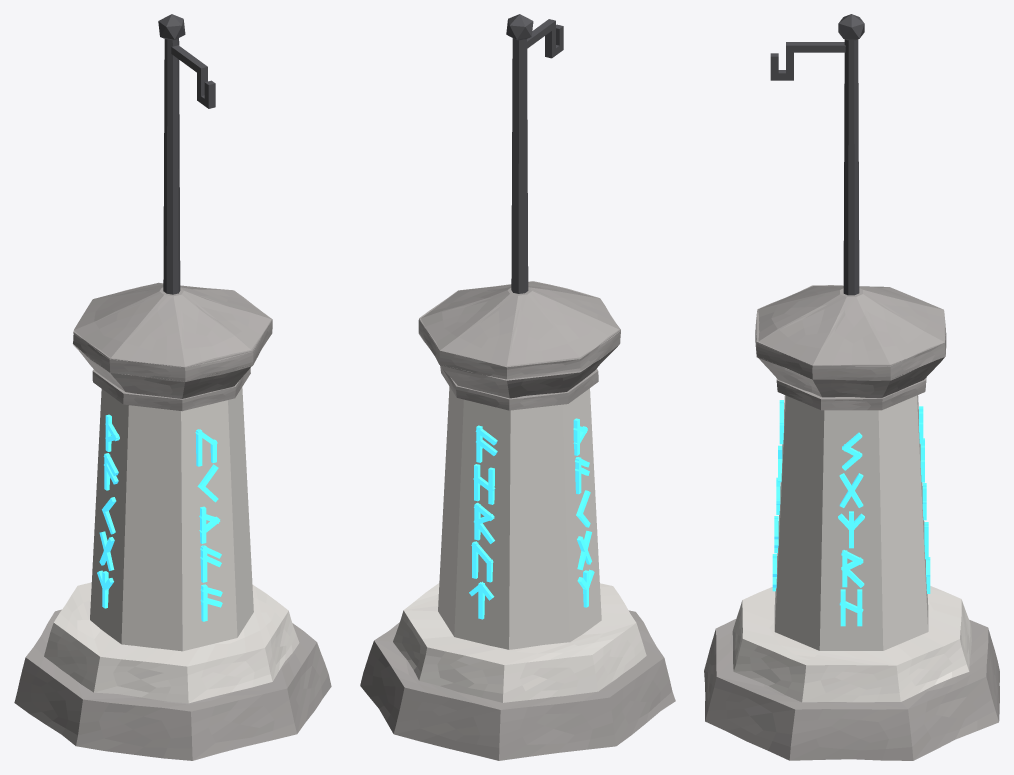
File: xai_bossholder_pillar.fbx
3 renders of one model, left to right at view 1: azimuth 30°, elevation 25°; view 2: azimuth 150°, elevation 25°; view 3: azimuth 270°, elevation 25°, orthographic.
Visible parts, largest first — view 1: xai_bossholder_pillar; view 2: xai_bossholder_pillar; view 3: xai_bossholder_pillar.
Part boxes in pixels (<box>): xai_bossholder_pillar: <box>14,14,331,760</box>; xai_bossholder_pillar: <box>360,14,675,760</box>; xai_bossholder_pillar: <box>704,14,999,760</box>.
Bounding box in the file's own units: 0.9653 × 2.46 × 0.9626.
